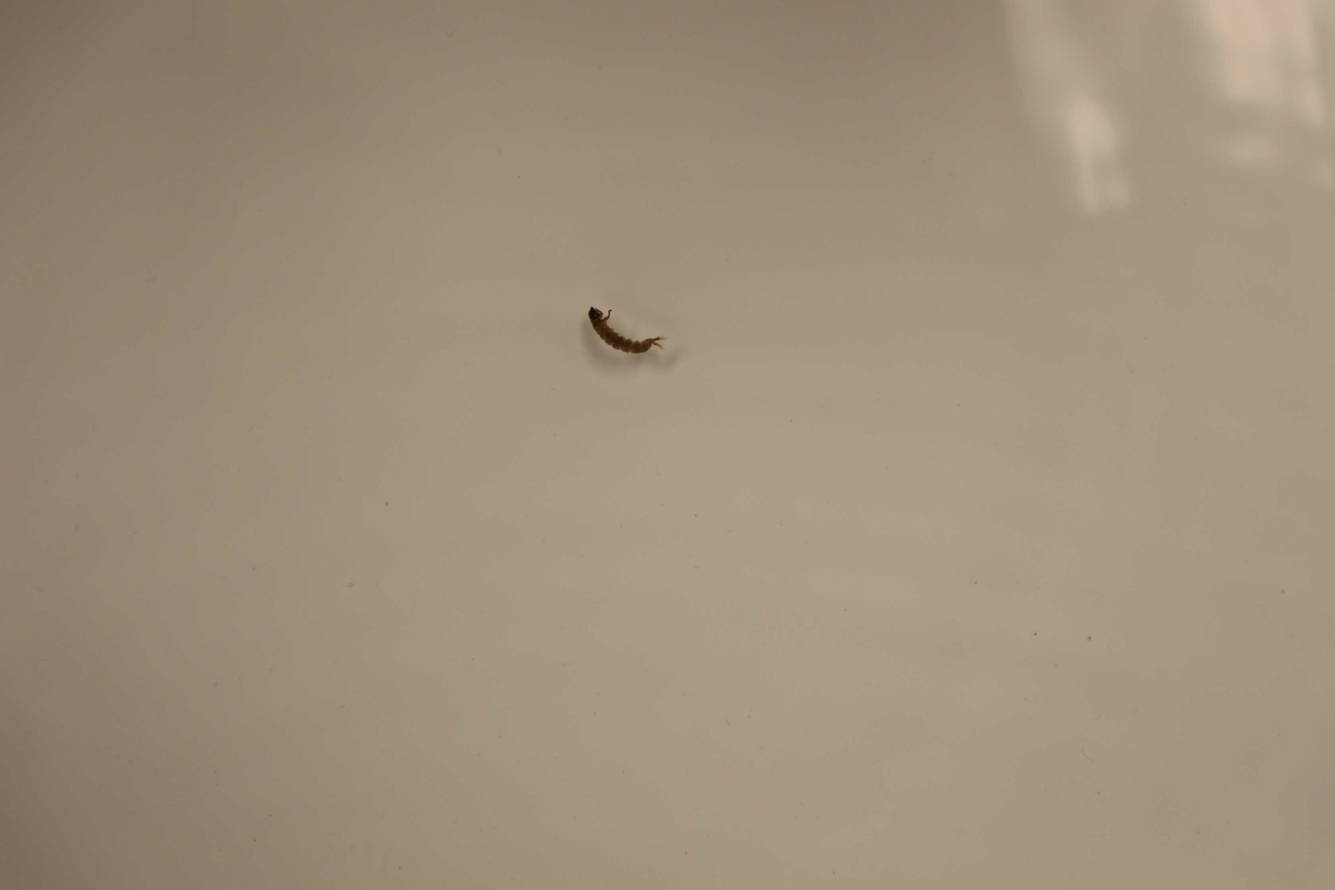Cadisfly: (576, 299, 669, 365)
